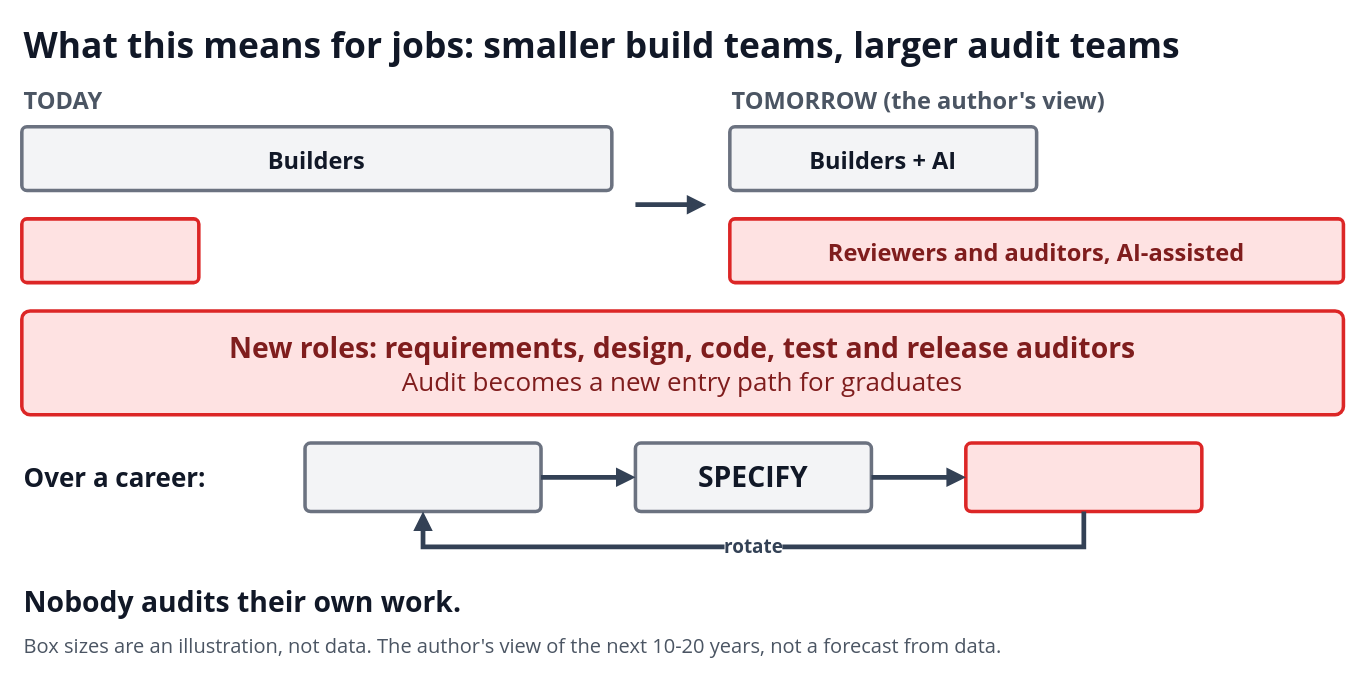
The diagram is 1365 pixels wide and 682 high, and some of its shapes have lost their labels. The centre of each missing label's shape, as x and y in pixels:
"AUDIT" goes at (1083,477).
"BUILD" goes at (422,477).
"Reviewers" goes at (109,250).
